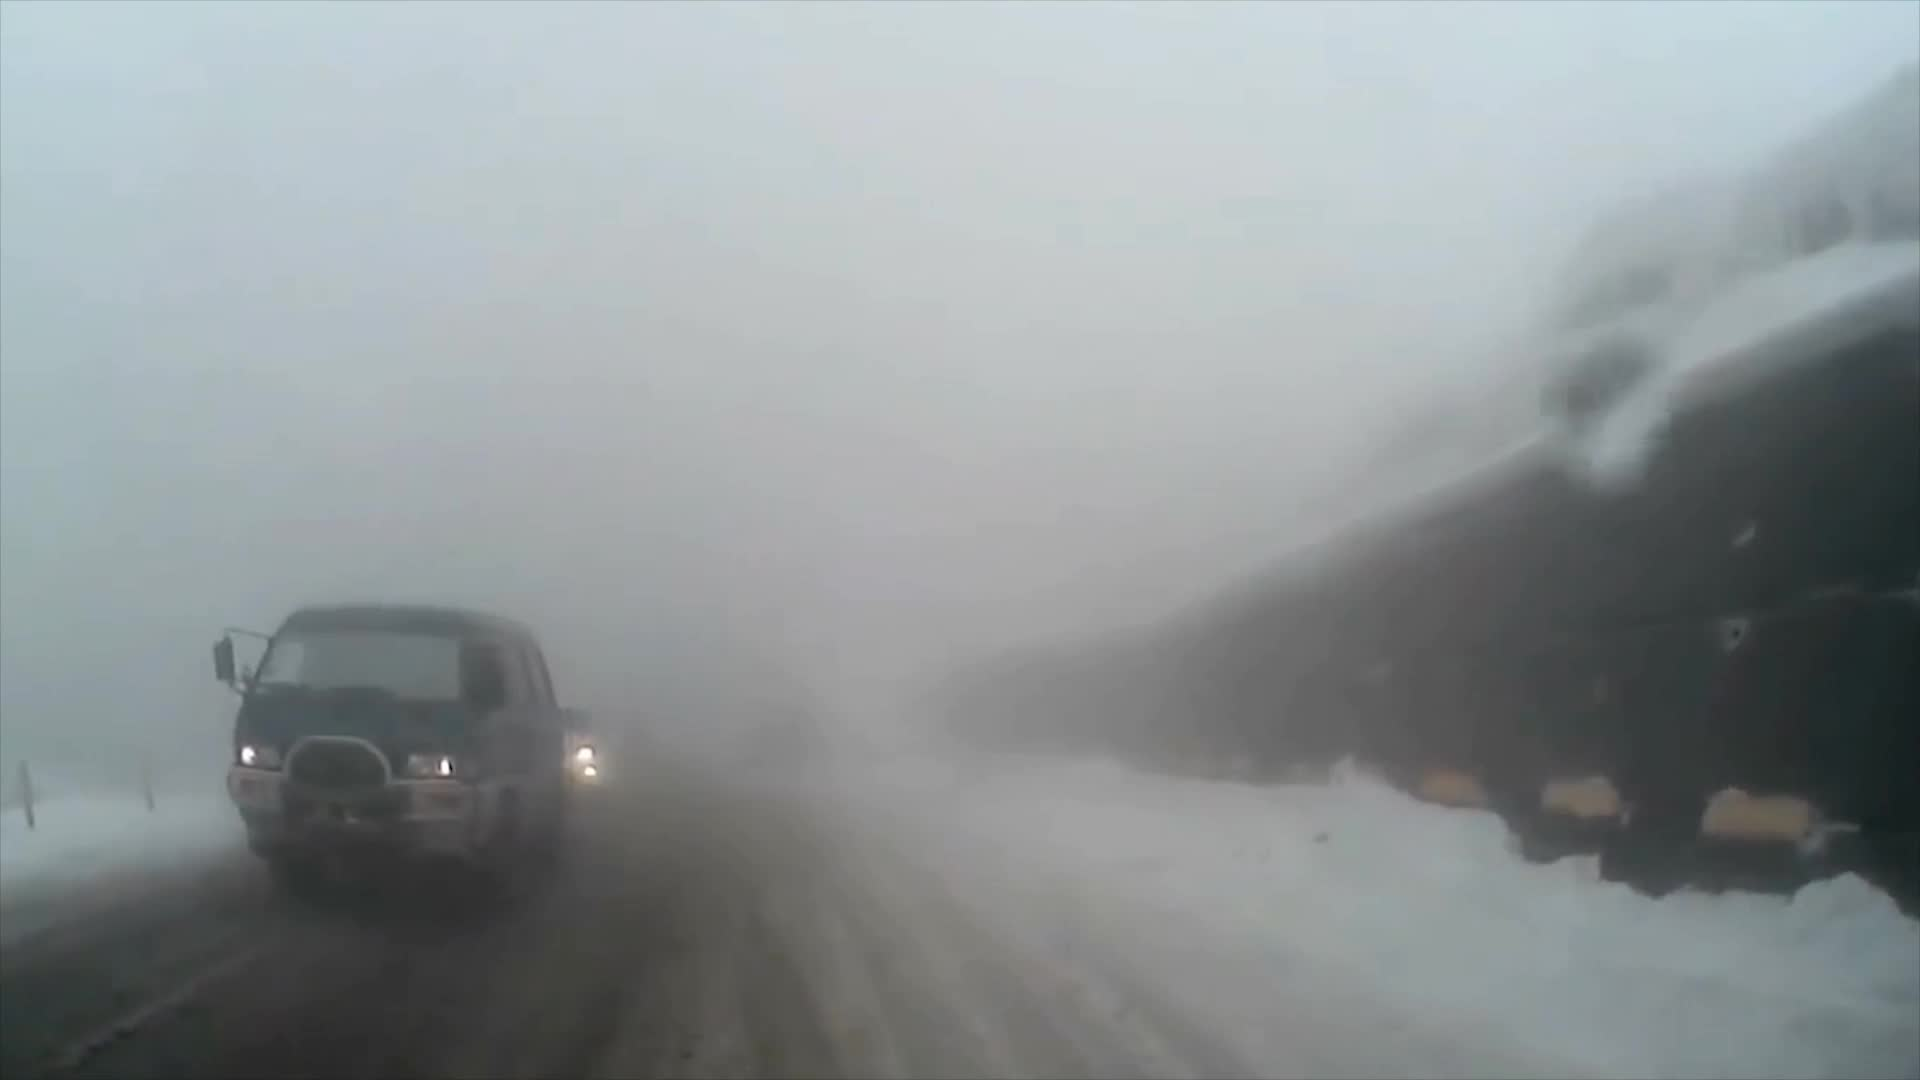vehicle: (208, 597, 571, 927)
